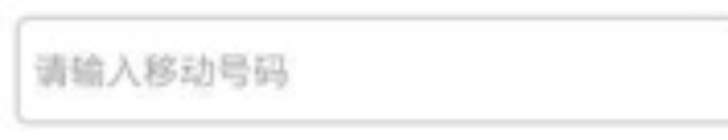EditText: (1, 1, 727, 139)
